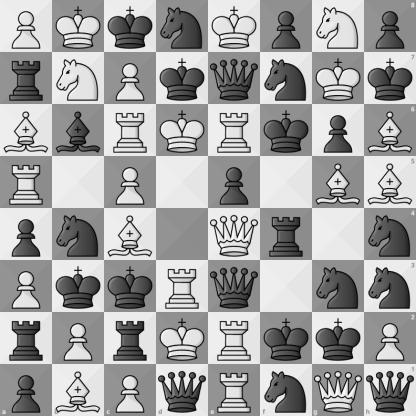B: (364, 156, 416, 209), (52, 364, 104, 416), (364, 104, 416, 156), (1, 105, 52, 156), (105, 209, 156, 260), (313, 157, 364, 208)
K: (53, 1, 104, 52), (157, 105, 208, 156), (157, 313, 208, 364), (209, 1, 260, 52), (313, 53, 364, 104)
N: (53, 53, 104, 104), (313, 1, 364, 52)
P: (104, 364, 156, 416), (364, 312, 416, 364), (1, 1, 52, 52), (1, 261, 52, 312), (53, 313, 104, 364), (105, 53, 156, 104), (105, 157, 156, 208)
Q: (312, 364, 364, 416), (209, 209, 260, 260)
R: (209, 364, 260, 416), (1, 157, 52, 208), (105, 105, 156, 156), (157, 261, 208, 312), (209, 105, 260, 156), (209, 313, 260, 364)
b: (53, 105, 104, 156)
board: (0, 0, 415, 415)
k: (364, 52, 416, 104), (53, 261, 104, 312), (105, 1, 156, 52), (105, 261, 156, 312), (157, 53, 208, 104), (261, 105, 312, 156), (261, 313, 312, 364), (313, 313, 364, 364)
n: (260, 364, 312, 416), (364, 260, 416, 312), (364, 209, 416, 260), (53, 209, 104, 260), (157, 1, 208, 52), (261, 53, 312, 104), (313, 261, 364, 312)
p: (0, 364, 52, 416), (364, 0, 416, 52), (1, 209, 52, 260), (209, 157, 260, 208), (261, 1, 312, 52), (313, 105, 364, 156)
q: (156, 364, 209, 416), (364, 364, 416, 416), (209, 53, 260, 104), (209, 261, 260, 312)
r: (1, 53, 52, 104), (1, 313, 52, 364), (105, 313, 156, 364), (261, 209, 312, 260)
